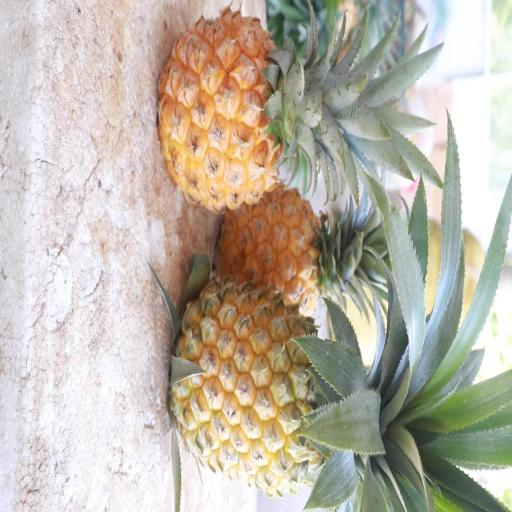Pineapple - v8 v1: (169, 272, 387, 502), (154, 4, 356, 216), (216, 177, 380, 319)
